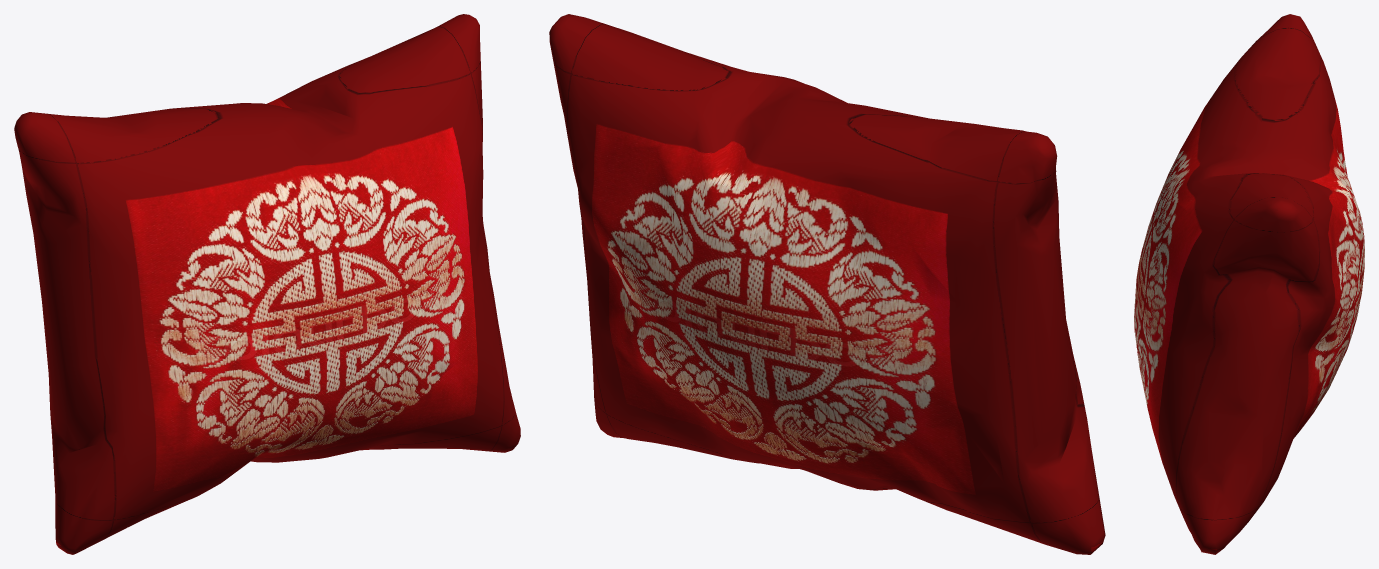
File: Pillow 1.FBX
The picture shows the model from 3 angles, left to right: view 1: azimuth 30°, elevation 25°; view 2: azimuth 150°, elevation 25°; view 3: azimuth 270°, elevation 25°; orthographic projection. The views are drawn at different scales.
Visible parts, largest first — view 1: pillow 1; view 2: pillow 1; view 3: pillow 1.
Boxes of the visible parts, left/top/right/bottom form: pillow 1: left=14, top=14, right=520, bottom=554; pillow 1: left=549, top=14, right=1105, bottom=554; pillow 1: left=1134, top=14, right=1364, bottom=554.
Size of the model in its own units: 40.95 by 35.01 by 20.55.
Materials: 1 (1 with a texture image).
